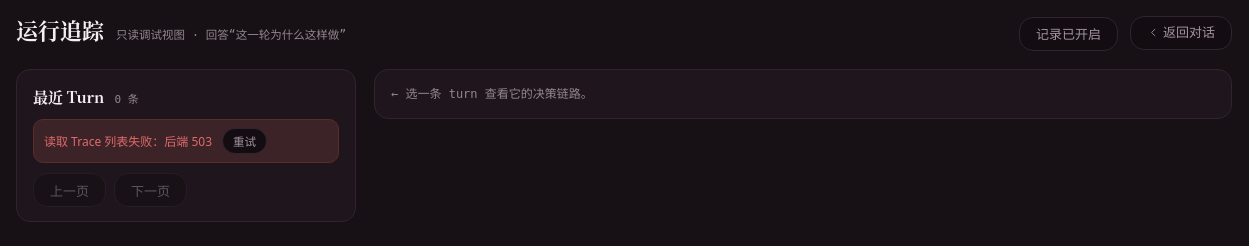
Test: 调试视图读取错误分区显示 › 列表读取失败：错误在列表区、有重试；不显示成「还没有 trace」
This screenshot has width=1249, height=246.
Expected: the message "读取 Trace 列表失败：后端 503 重试" is shown, 33,119 -> 339,163
Expected: the message with class "debug-error" shows "读取 Trace 列表失败", 44,133 -> 212,150
Step 1. Click the button with class "debug-retry" → (244,141), box 222,128 -> 267,154
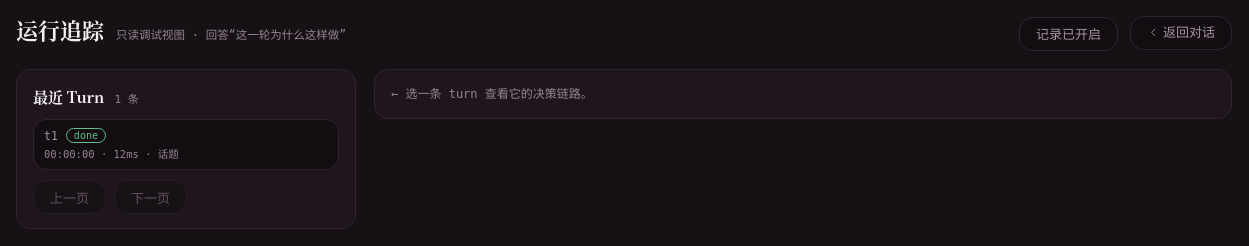
Result: the button "t1 done 00:00:00 · 12ms · 话题" is shown at 33,119 -> 339,170
